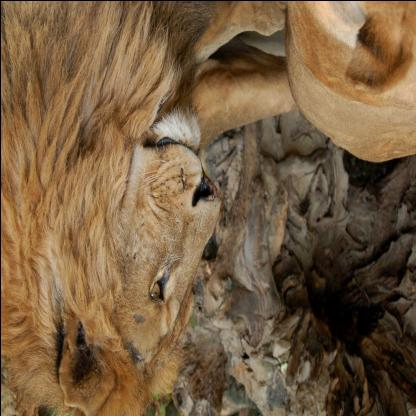lion: (50, 100, 222, 415)
